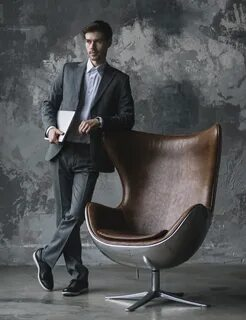awake: (32, 19, 135, 297)
